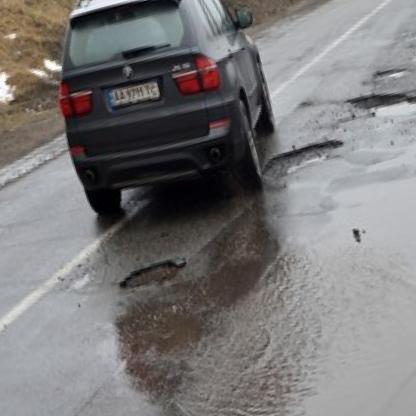pothole: (259, 132, 351, 185), (340, 77, 416, 133), (114, 255, 191, 296), (371, 60, 413, 86)
